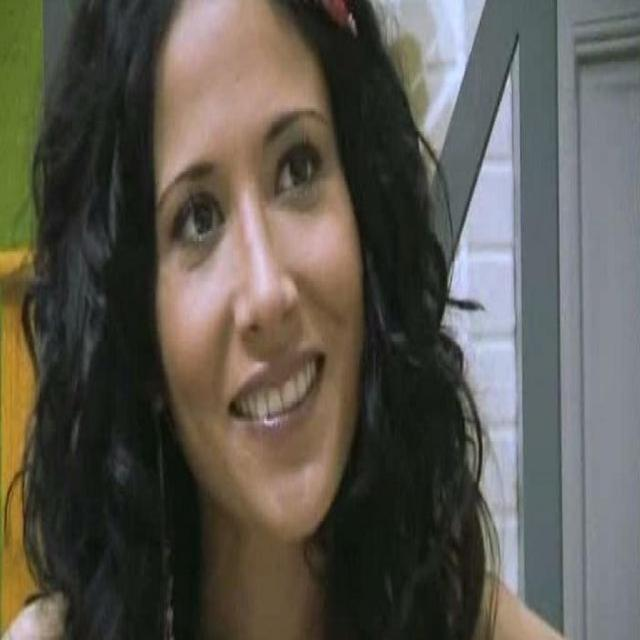Face: (164, 1, 368, 531)
